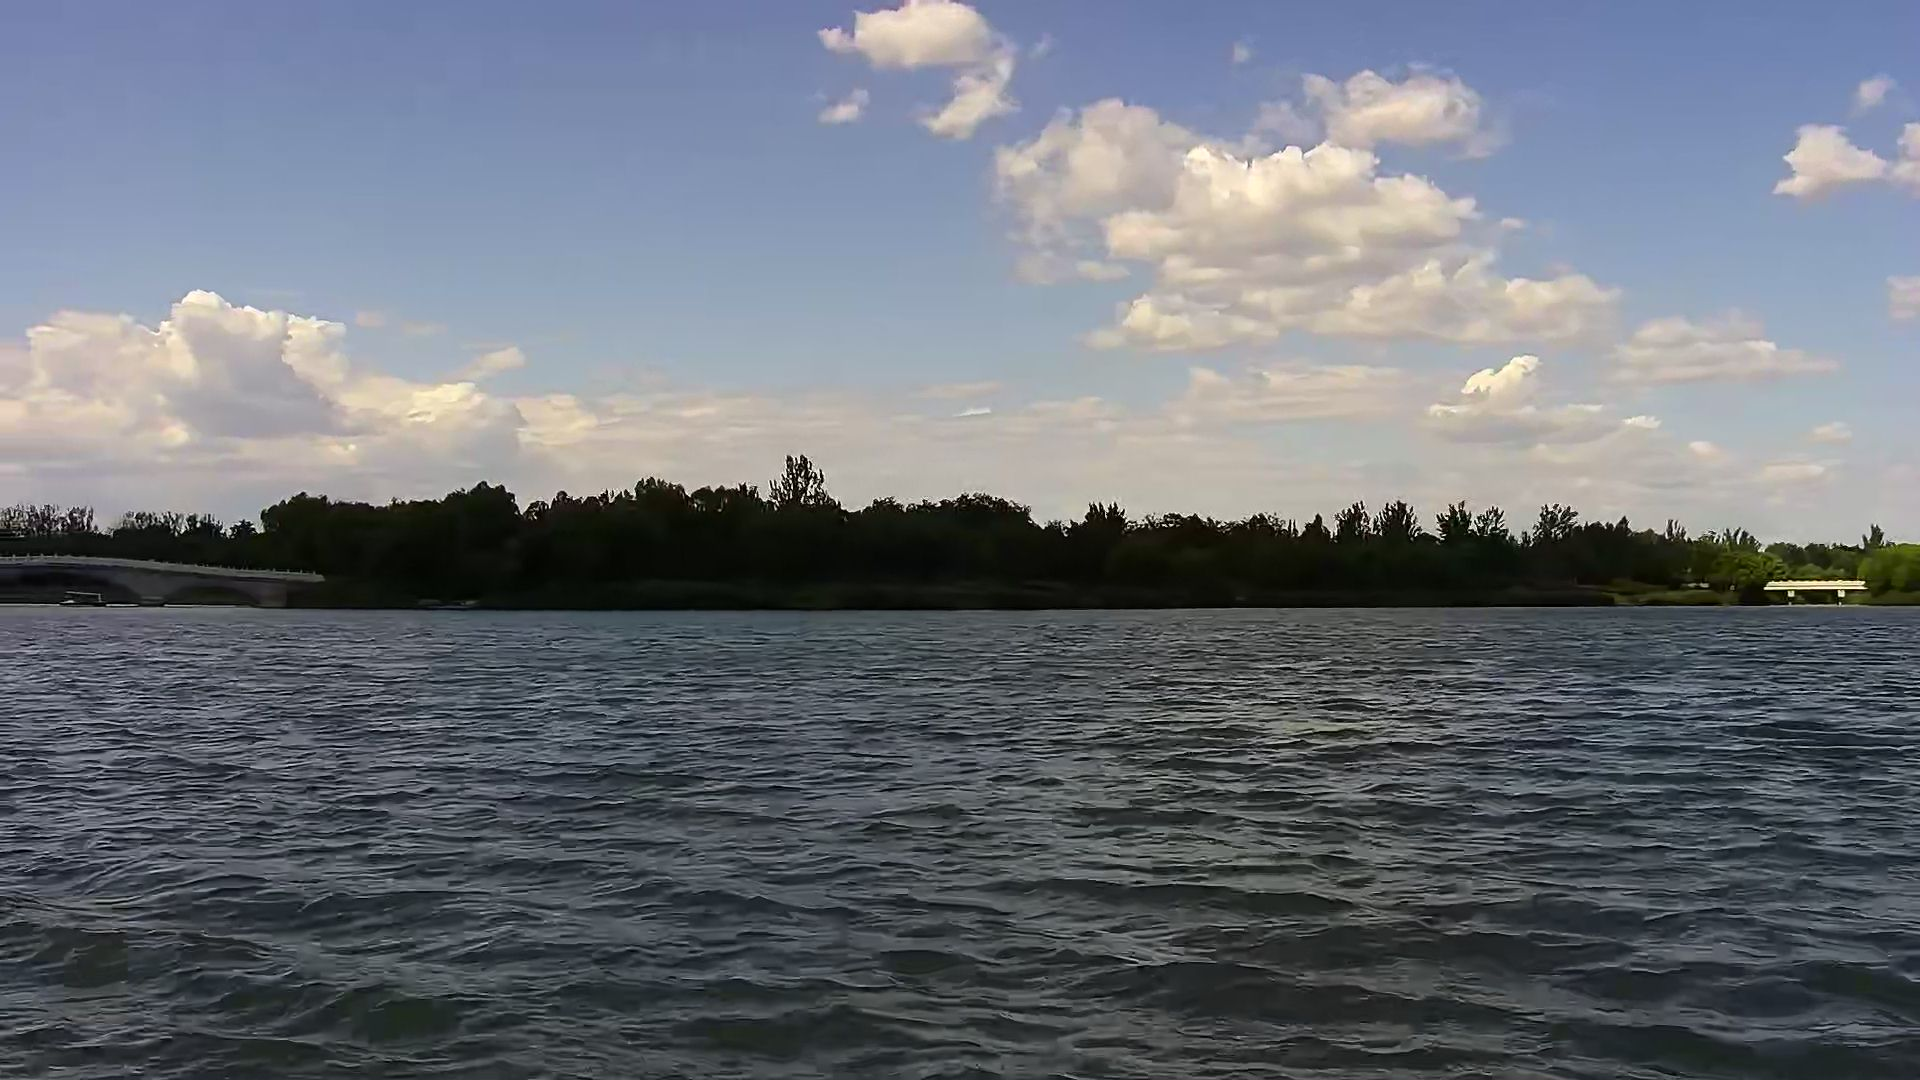bridge: (1, 553, 328, 608), (1763, 579, 1876, 609)
